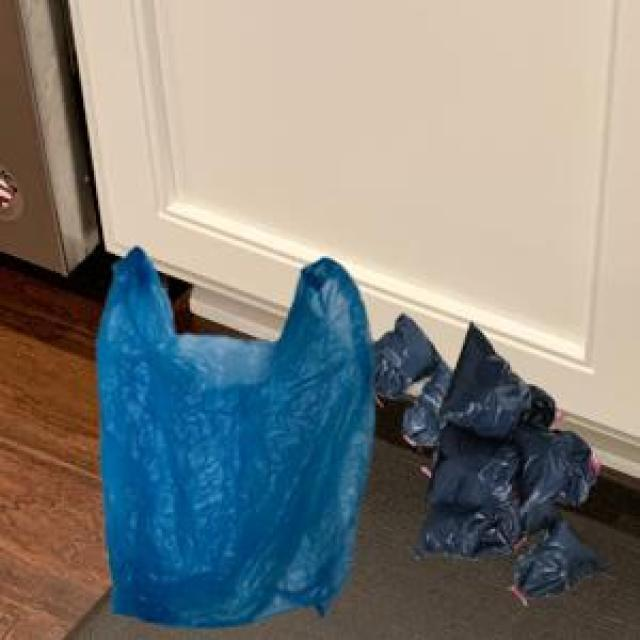miscellaneous trash: (367, 309, 606, 593), (410, 320, 595, 557)
